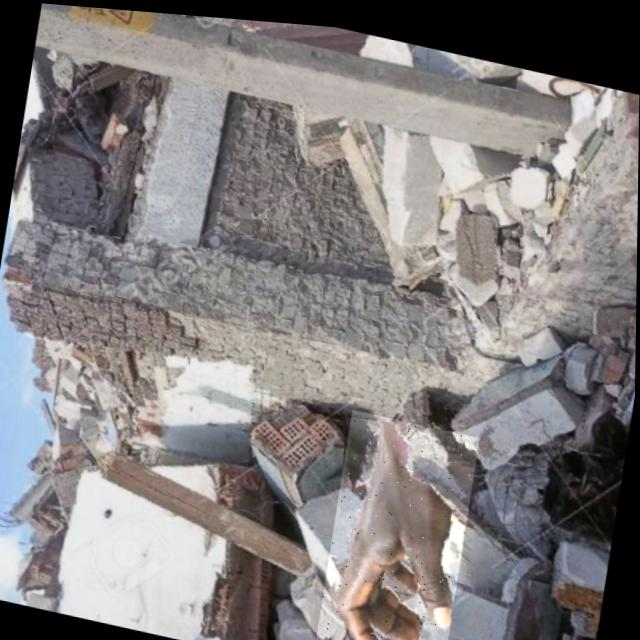Person in Rubble: (318, 400, 482, 640)
